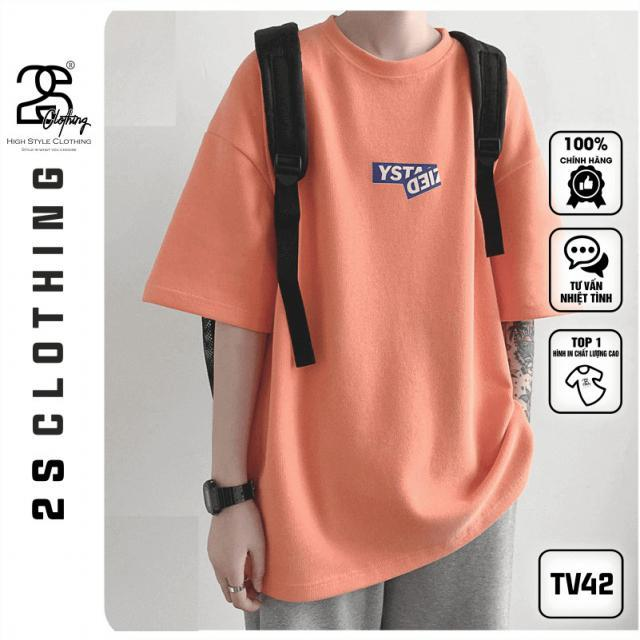Shirt: (138, 9, 564, 609)
